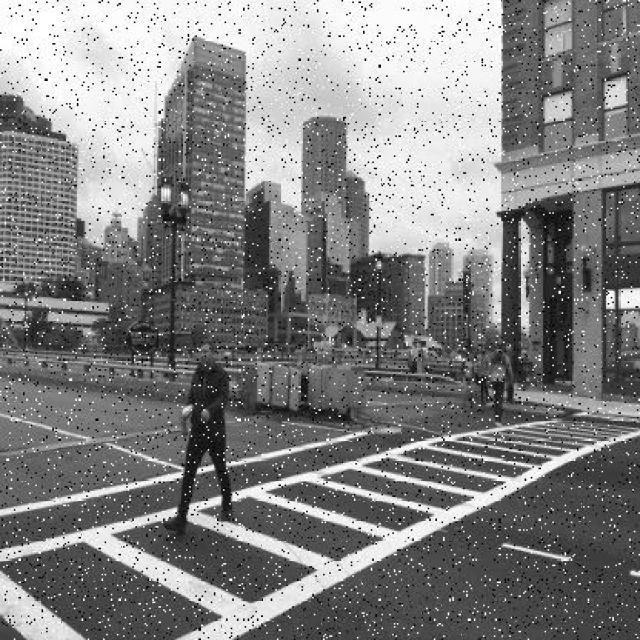crosswalk: (2, 417, 640, 640)
